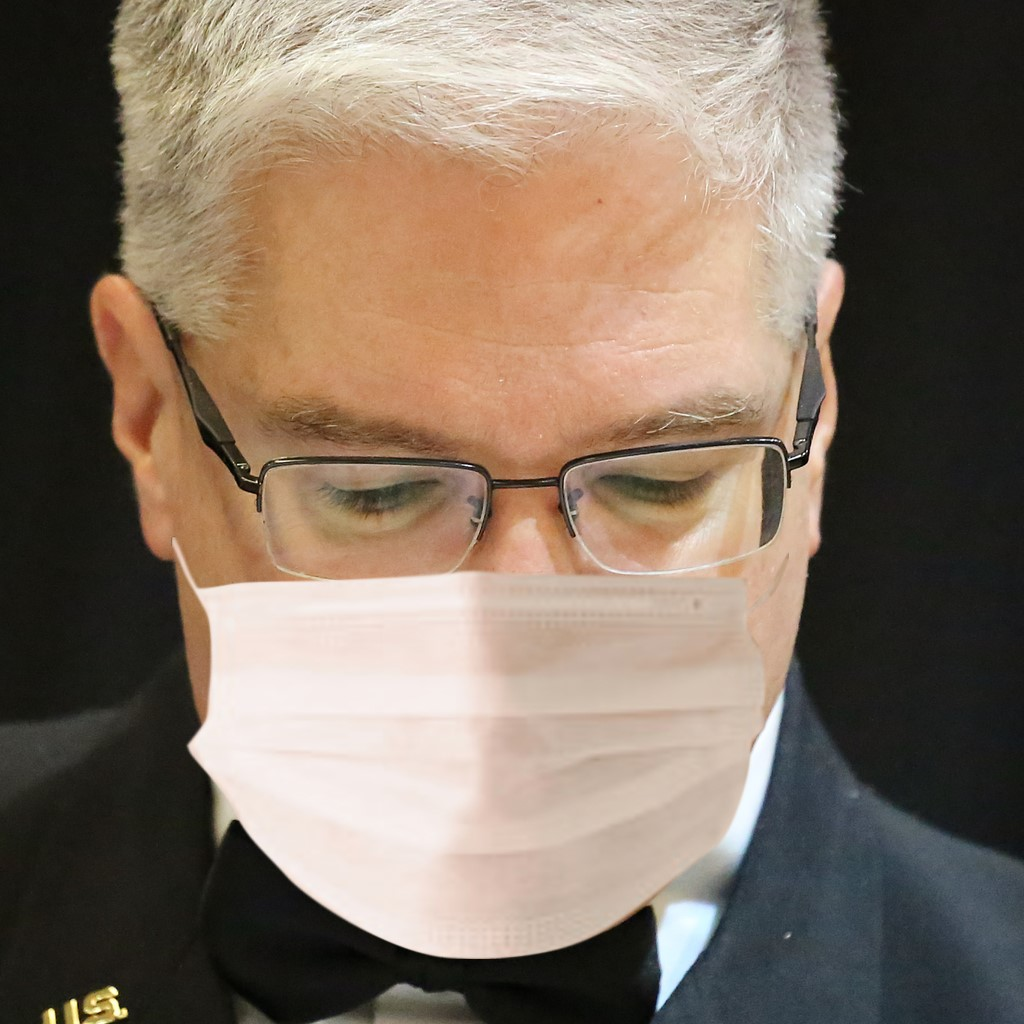con_mascara: (103, 71, 839, 952)
